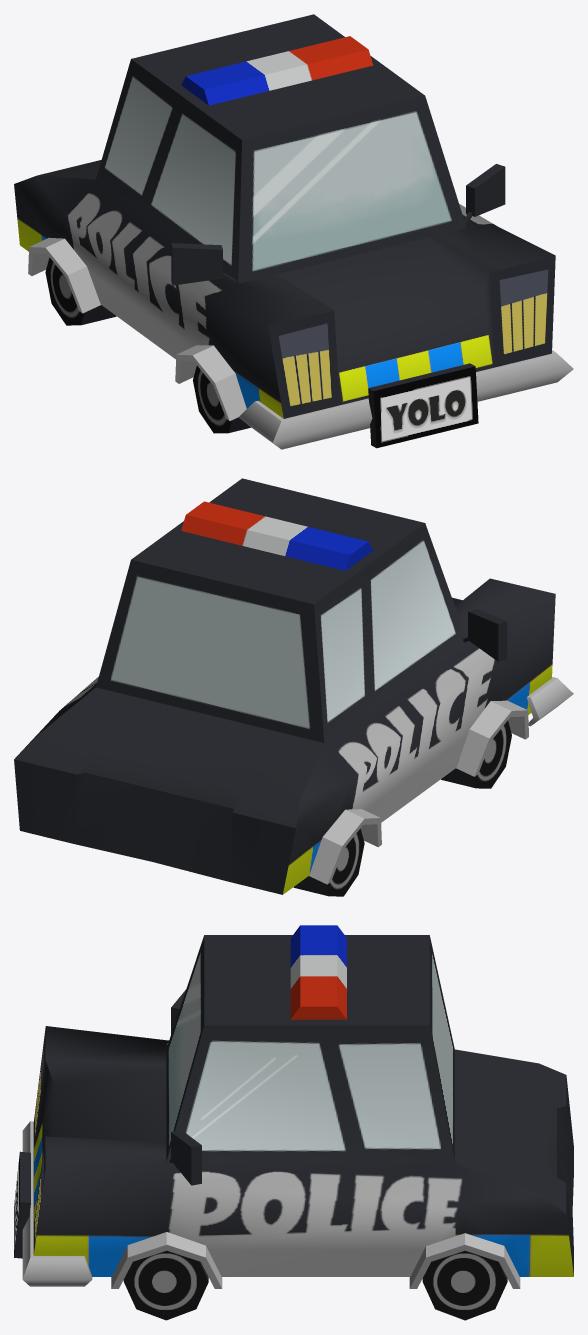
Rendered from POLICE_CAR_Rotated.fbx.
3 renders of one model, top to bottom at view 1: azimuth 30°, elevation 25°; view 2: azimuth 150°, elevation 25°; view 3: azimuth 270°, elevation 25°, orthographic.
Visible parts, largest first — view 1: Police_Car; view 2: Police_Car; view 3: Police_Car.
Part boxes in pixels (x1,y1,x2,y2): Police_Car: [14, 14, 573, 449]; Police_Car: [14, 478, 573, 896]; Police_Car: [14, 925, 573, 1320].
Bounding box in the file's own units: 215 × 174 × 309.
